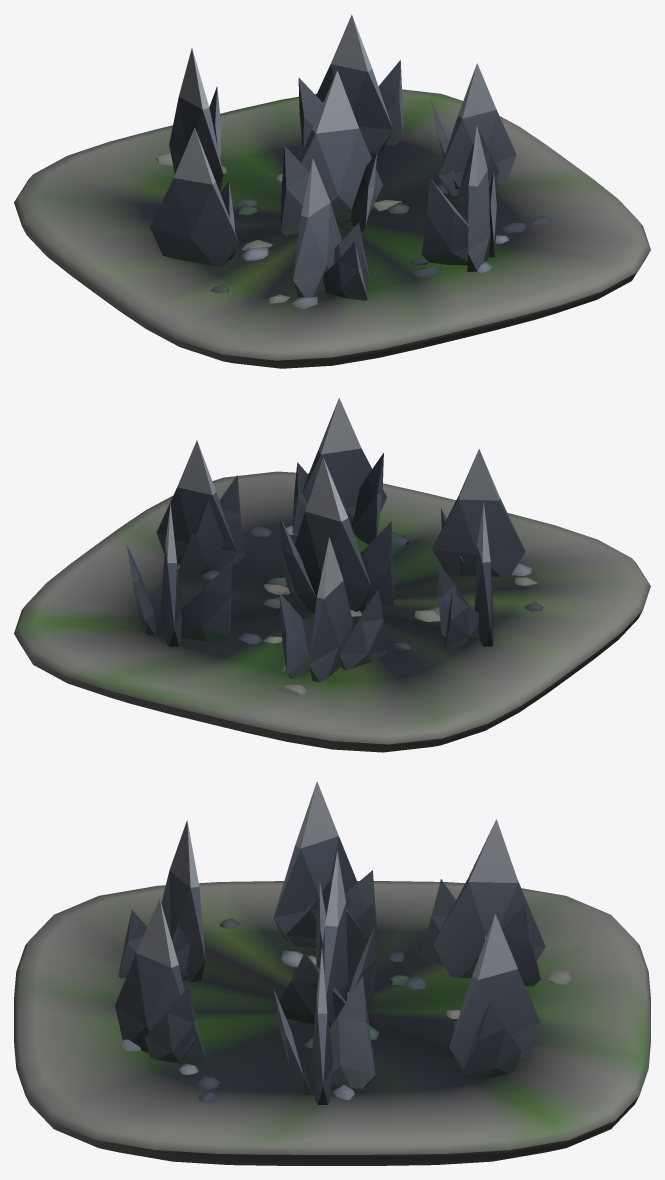
The model's file is spikes_mountain.glb.
The picture shows the model from 3 angles, top to bottom: view 1: azimuth 30°, elevation 25°; view 2: azimuth 150°, elevation 25°; view 3: azimuth 270°, elevation 25°; orthographic projection. The views are drawn at different scales.
Parts seen in each view (by area): view 1: spikes_mountain; view 2: spikes_mountain; view 3: spikes_mountain.
Part boxes in pixels (bbox=[...]): spikes_mountain: bbox=[14, 14, 650, 368]; spikes_mountain: bbox=[14, 398, 650, 752]; spikes_mountain: bbox=[14, 781, 650, 1165].
Size of the model in its own units: 2 by 0.6891 by 2.
